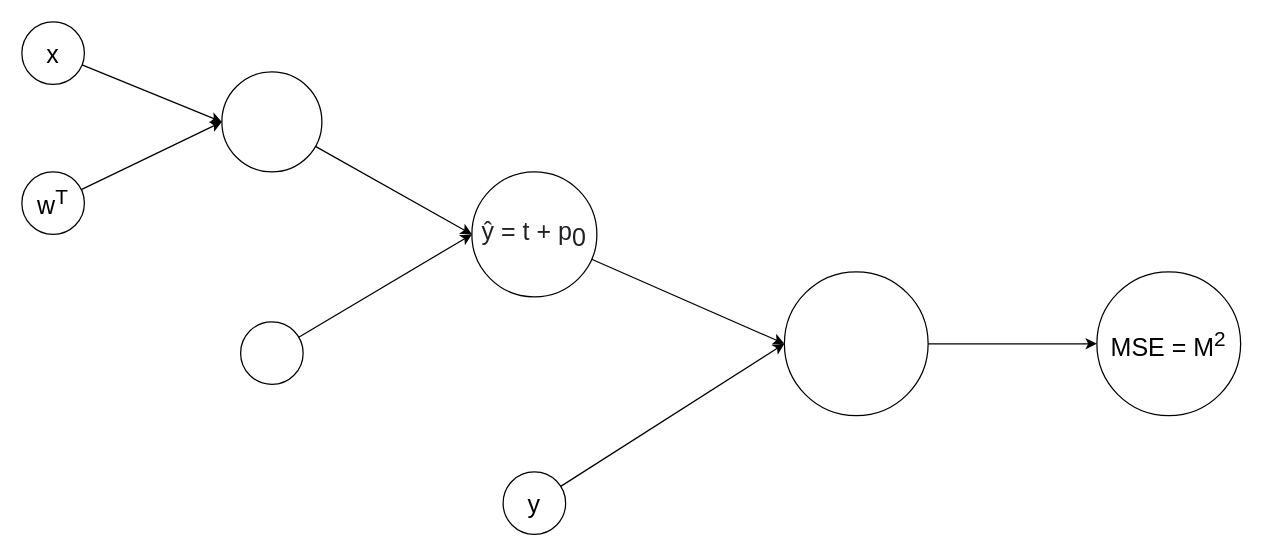
Some shapes in this 1263 by 556 pixel diagram are drawn without their labels. Each missing label, with the centre of its shape:
"M = y - ŷ" goes at point (855, 343).
"p 0" goes at point (271, 352).
"t = w T .x" goes at point (271, 121).
